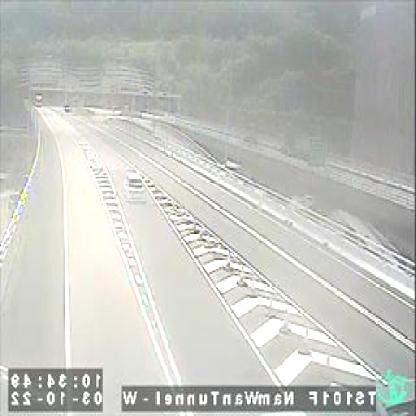Car: (125, 170, 147, 203)
